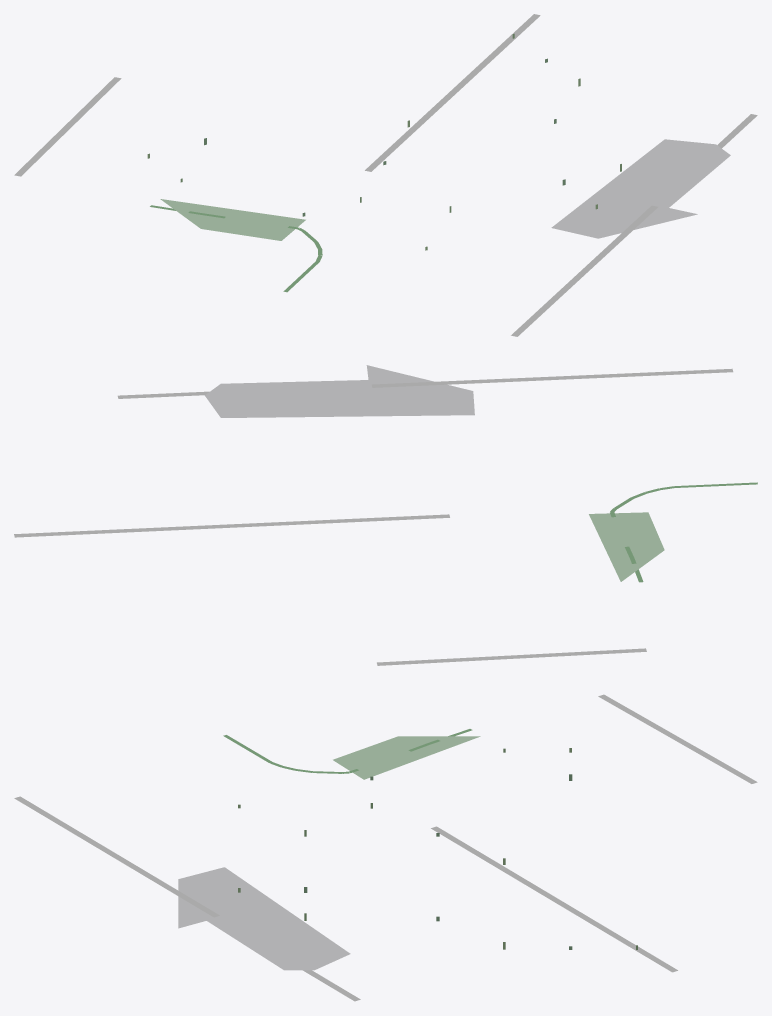
The picture shows the model from 3 angles, top to bottom: view 1: azimuth 30°, elevation 25°; view 2: azimuth 150°, elevation 25°; view 3: azimuth 270°, elevation 25°; orthographic projection. The views are drawn at different scales.
Size of the model in its own units: 655 by 9.06 by 673.
